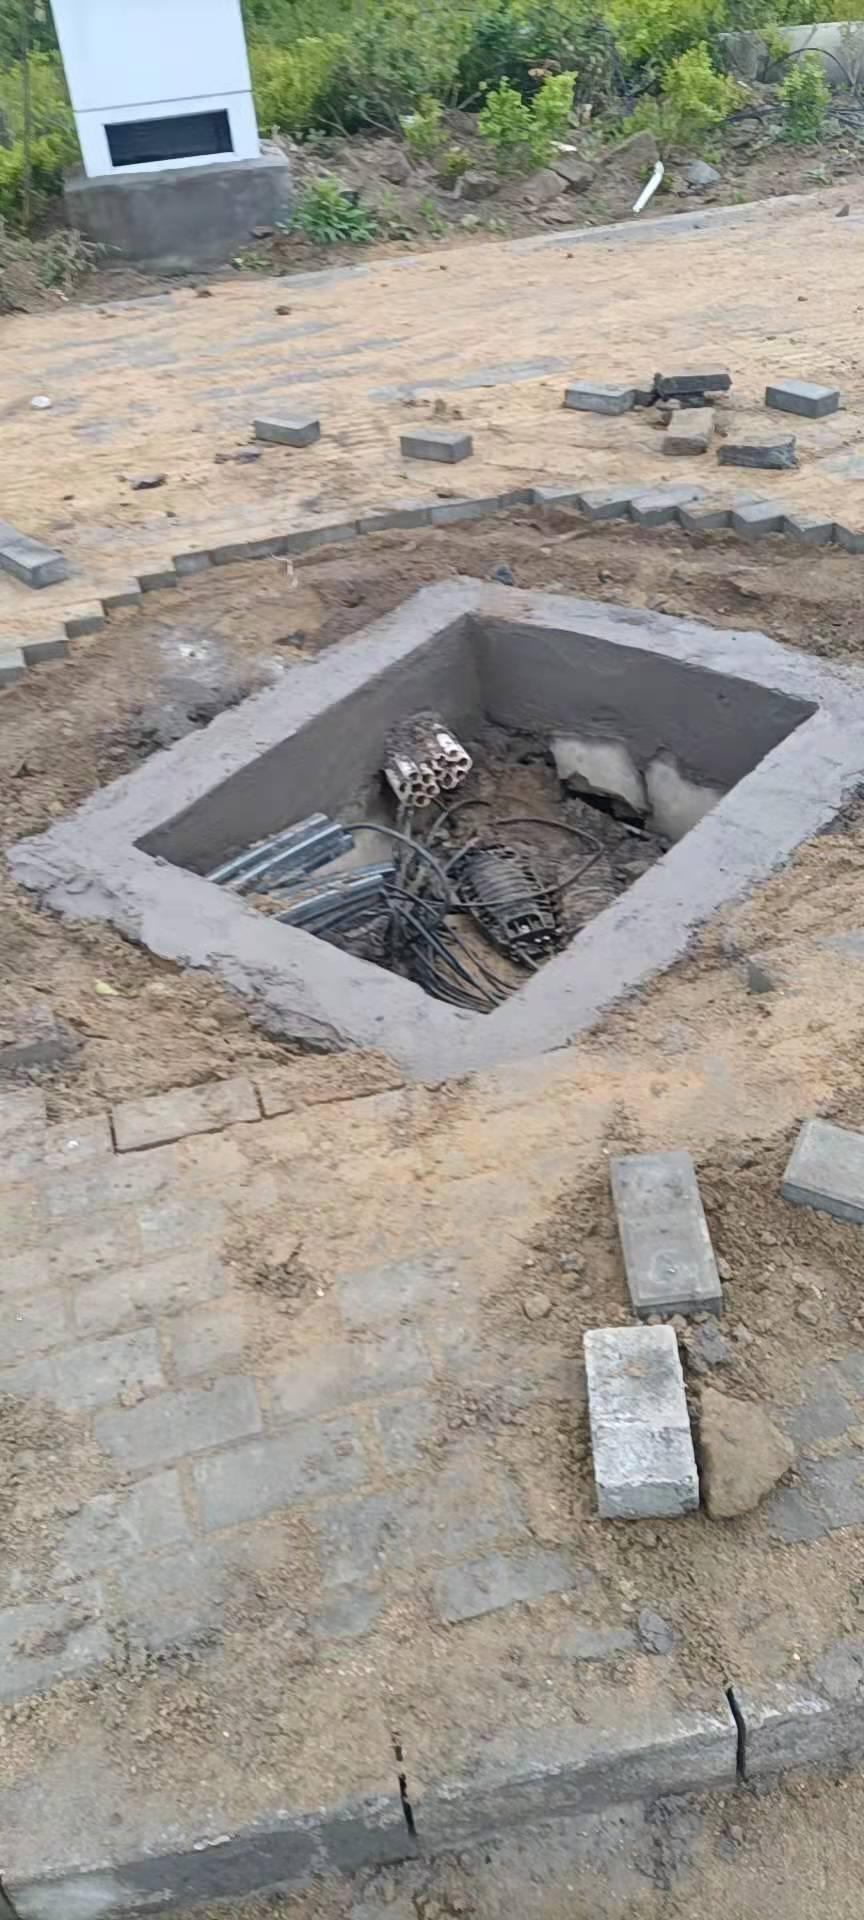wellcover: (81, 561, 853, 1092)
